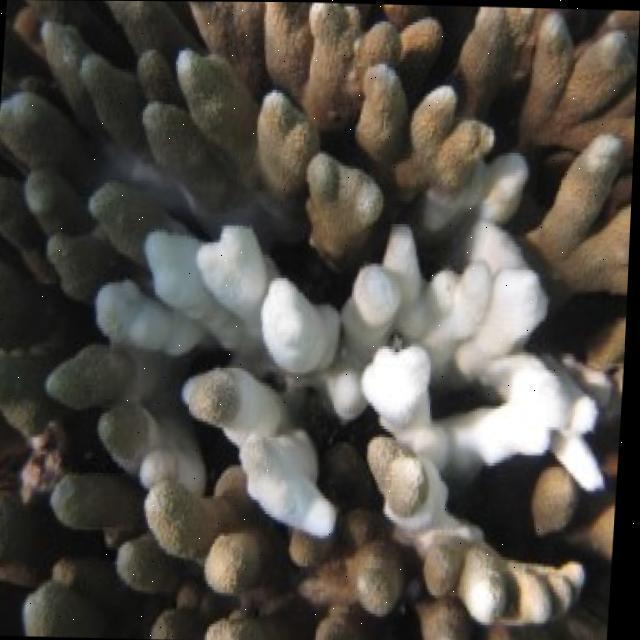Bleached Coral: (58, 150, 635, 541)
